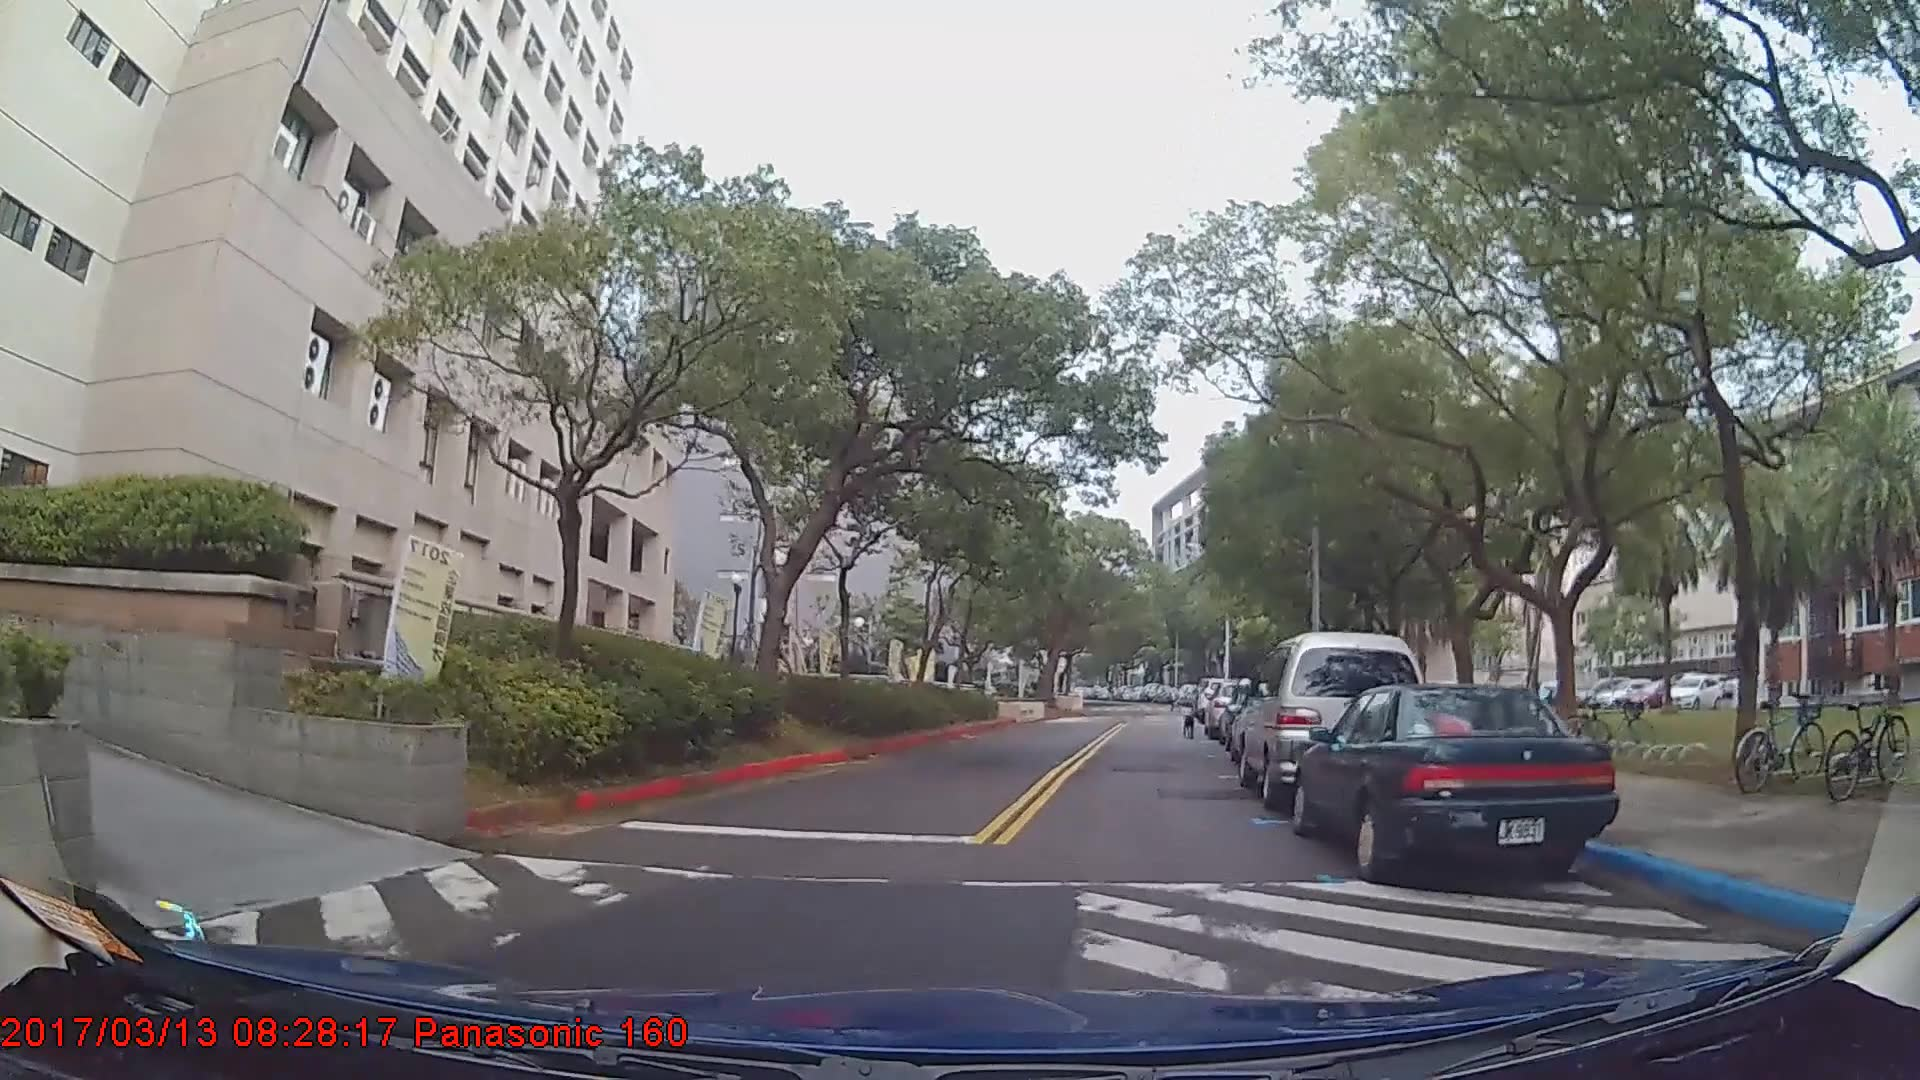vehicle: (1287, 680, 1615, 880), (1237, 629, 1423, 810)
